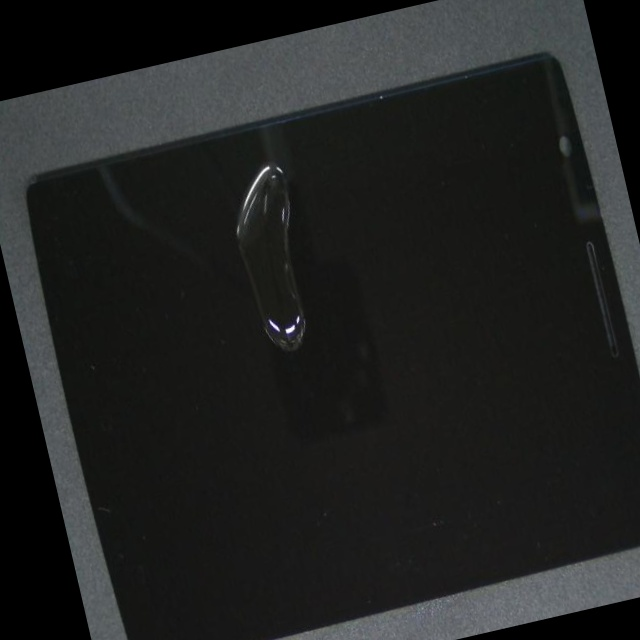oil: (149, 202, 468, 418)
